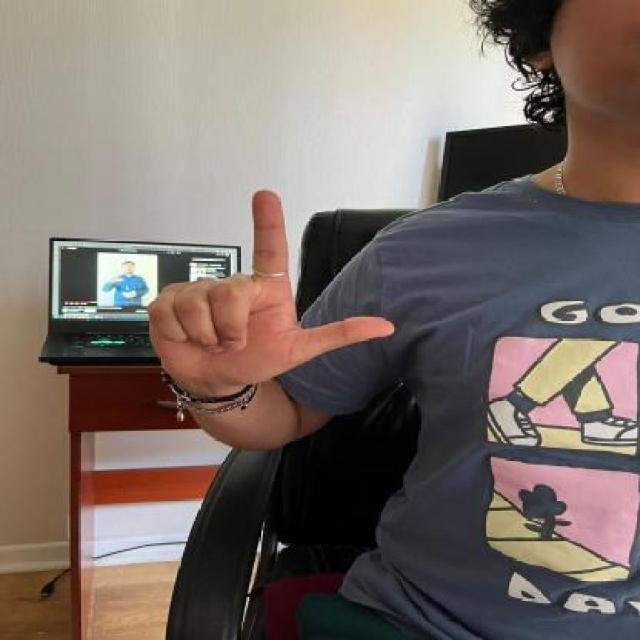L: (143, 182, 402, 390)
